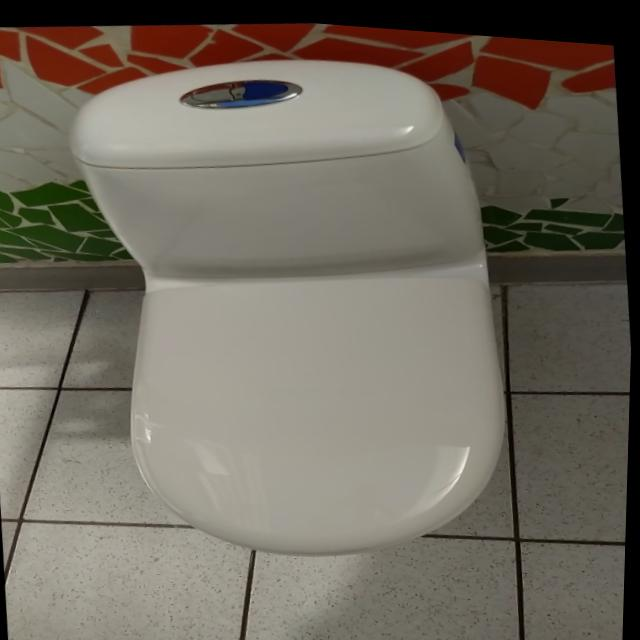toilet: (52, 24, 528, 582)
